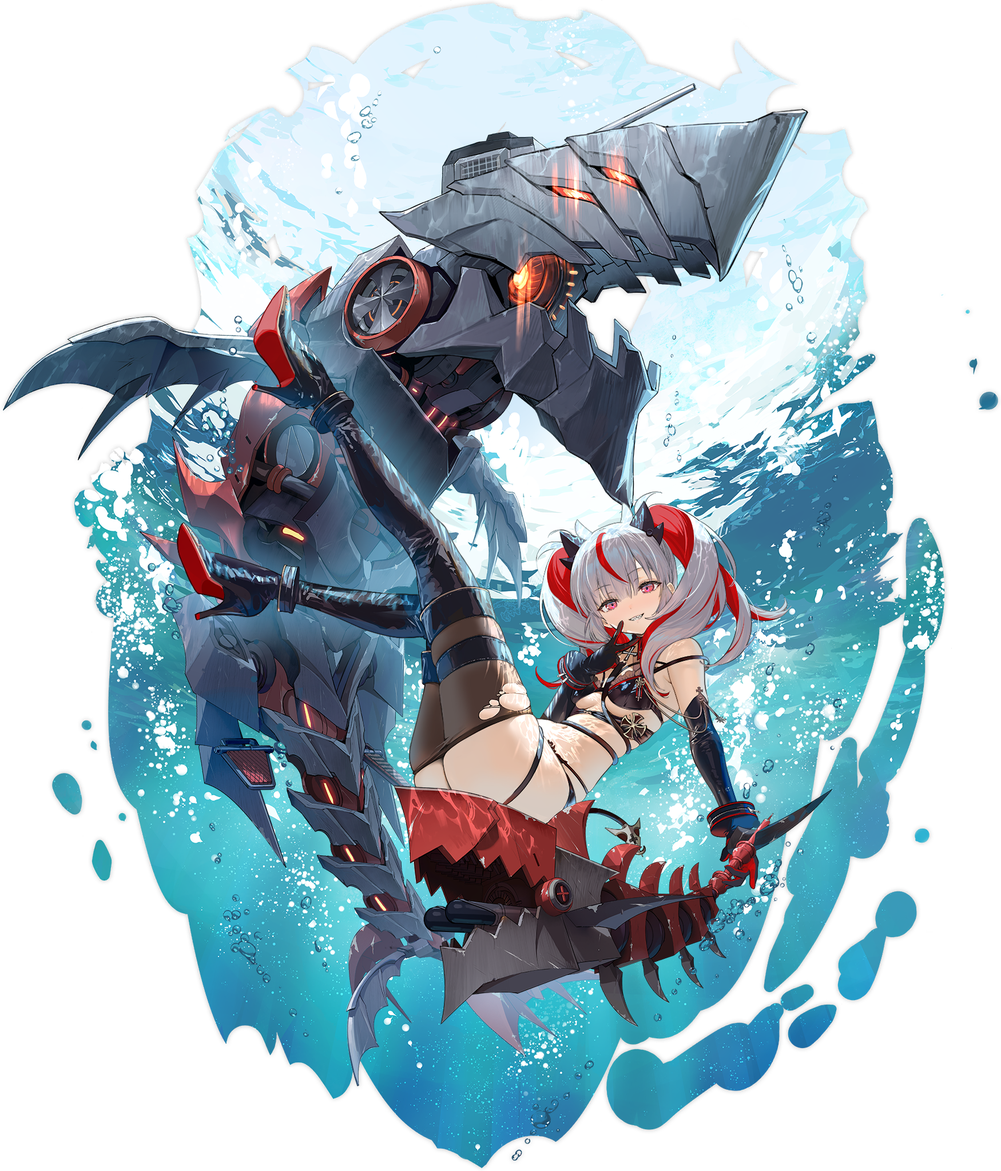person: (144, 463, 801, 1170)
